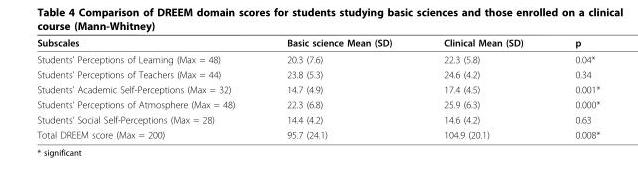table: (36, 36, 599, 140)
table column: (36, 36, 260, 140), (260, 36, 417, 140), (417, 36, 548, 140), (548, 36, 599, 140)
table column header: (36, 36, 599, 50)
table row: (36, 50, 599, 66), (36, 66, 599, 81), (36, 81, 599, 96), (36, 96, 599, 111), (36, 111, 599, 126), (36, 36, 599, 50), (36, 126, 599, 140)
